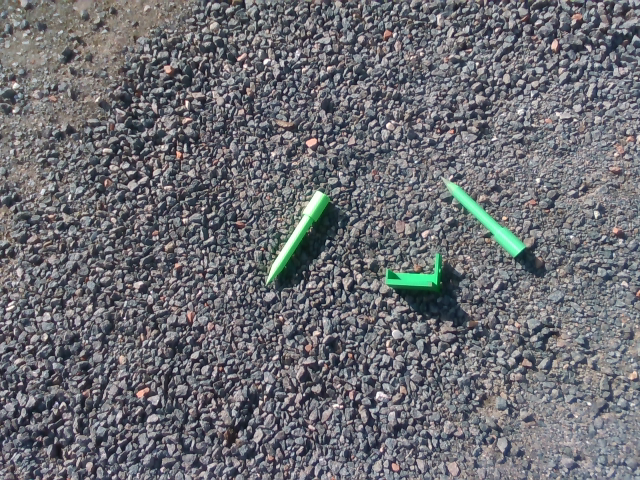Probe: (434, 171, 528, 261), (262, 186, 334, 291)
